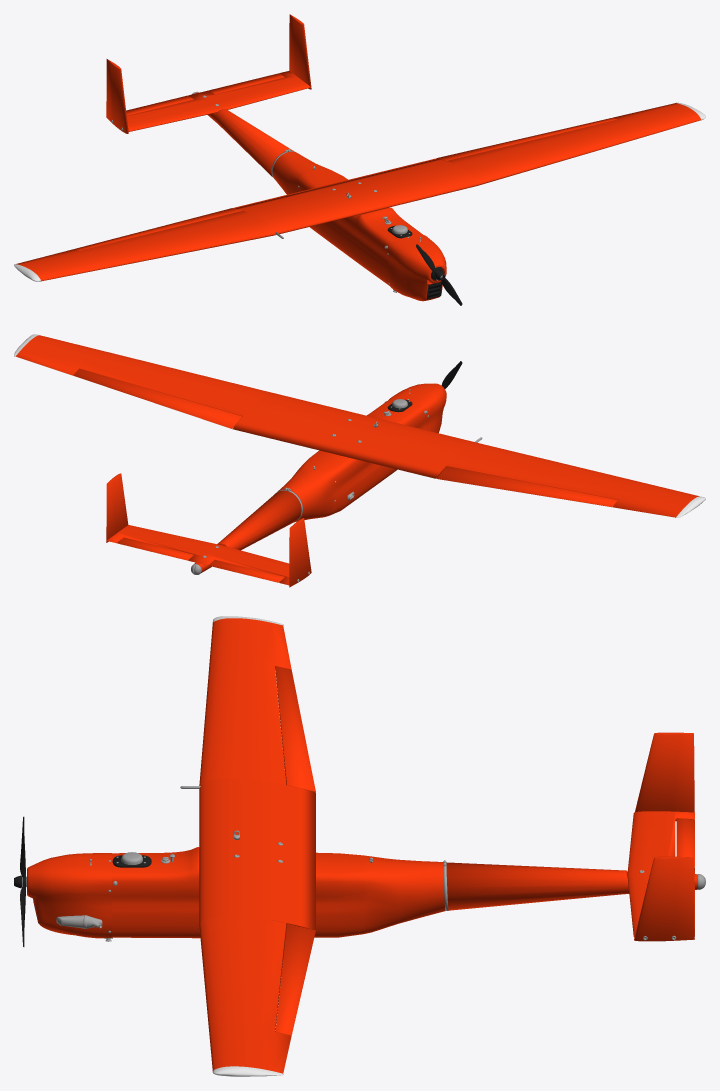
The model's file is red_geoscan_anim.fbx.
3 renders of one model, top to bottom at view 1: azimuth 30°, elevation 25°; view 2: azimuth 150°, elevation 25°; view 3: azimuth 270°, elevation 25°, orthographic. The views are drawn at different scales.
Visible parts, largest first — view 1: ПЛАС_797121_001_Заготовка_центроплана_G, Fly; view 2: ПЛАС_797121_001_Заготовка_центроплана_G, Цилиндр_5; view 3: ПЛАС_797121_001_Заготовка_центроплана_G, Цилиндр_5, Объект_Полигон_9.
Part boxes in pixels (x1,y1,x2,y2): ПЛАС_797121_001_Заготовка_центроплана_G: (16,14,700,301); Fly: (416,244,462,305); ПЛАС_797121_001_Заготовка_центроплана_G: (16,335,699,587); Цилиндр_5: (191,389,482,581); ПЛАС_797121_001_Заготовка_центроплана_G: (27,618,697,1073); Цилиндр_5: (56,786,705,941); Объект_Полигон_9: (212,616,283,1076).
Size of the model in its own units: 333 by 47.7 by 213.
